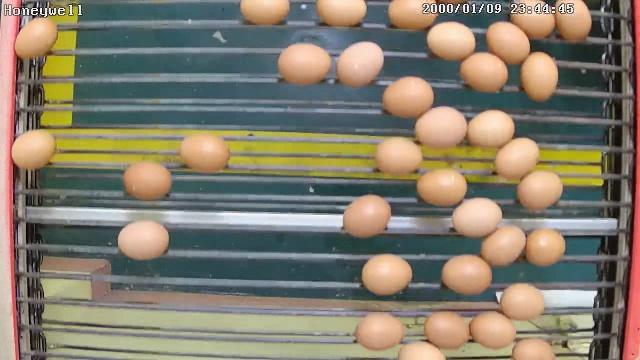egg: (412, 103, 468, 152), (278, 40, 332, 88), (381, 74, 436, 120), (334, 40, 386, 88), (179, 129, 232, 175), (116, 219, 171, 263), (341, 194, 393, 240), (360, 253, 414, 297), (373, 134, 427, 178), (440, 252, 494, 296), (450, 195, 504, 238), (458, 50, 509, 95), (122, 158, 174, 202), (491, 136, 542, 180), (352, 308, 405, 350), (414, 168, 468, 209), (516, 168, 564, 214), (485, 20, 532, 66), (8, 128, 58, 171), (465, 108, 516, 150), (520, 50, 560, 103), (13, 15, 59, 61), (478, 224, 526, 268), (468, 308, 518, 350), (426, 20, 476, 62), (500, 282, 548, 322), (524, 225, 567, 269), (424, 310, 471, 350), (508, 1, 556, 40), (553, 0, 593, 43), (385, 0, 437, 32)
